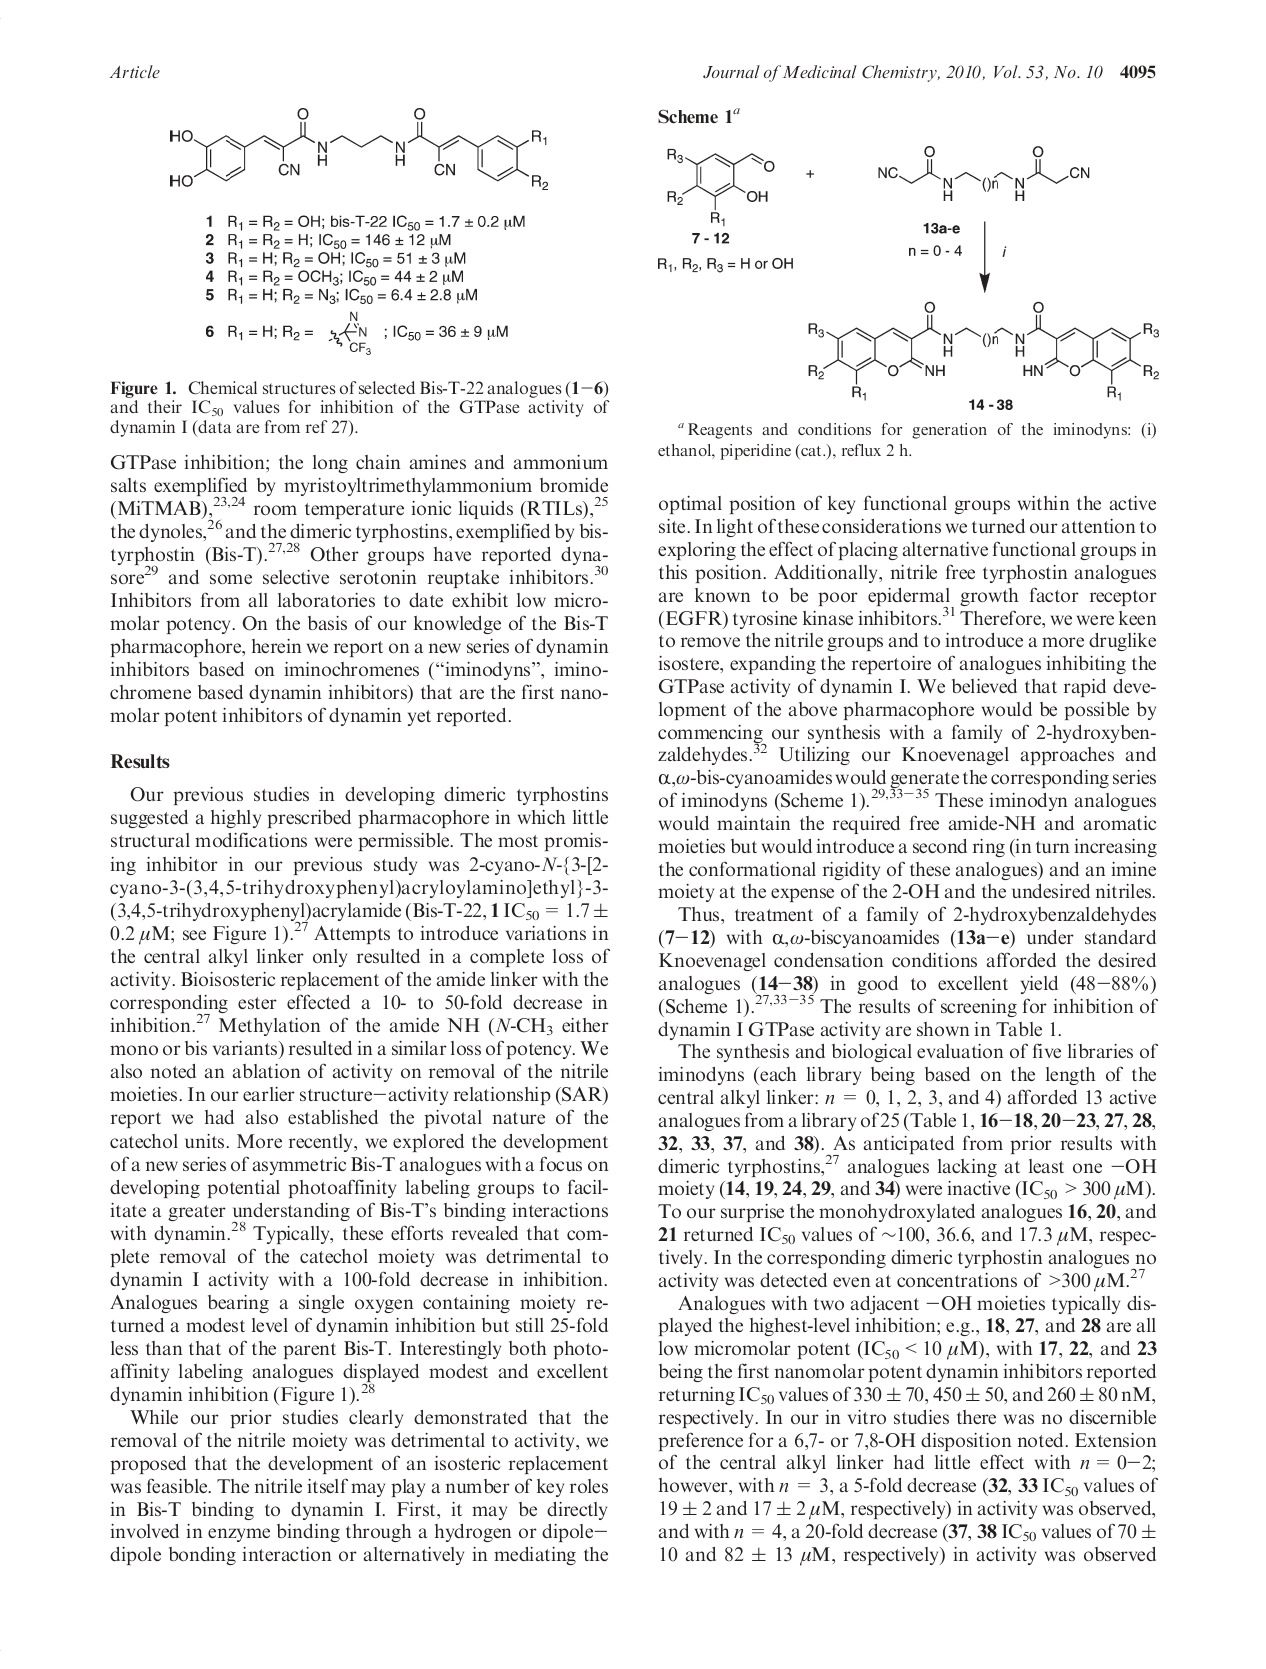exist_molecular: (802, 301, 1164, 403), (164, 102, 559, 193), (870, 141, 1097, 207), (660, 144, 778, 227)
